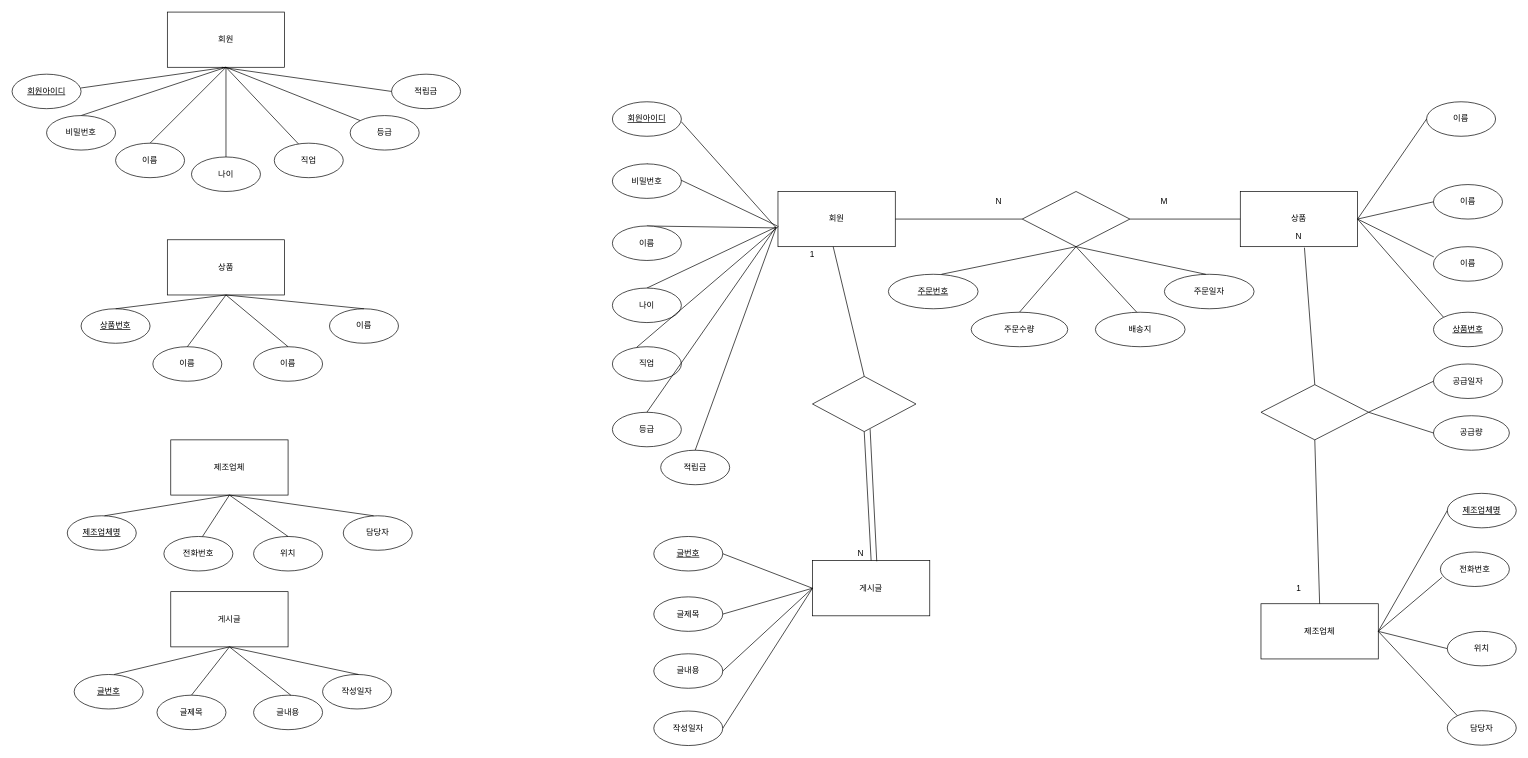
The diagram is 1528 pixels wide and 758 high, and some of its shapes have lost their labels. The centre of each missing label's shape, as x and y in pixels:
"공급" goes at pixel 1314 412.
"작성" goes at pixel 864 404.
"주문" goes at pixel 1076 219.
